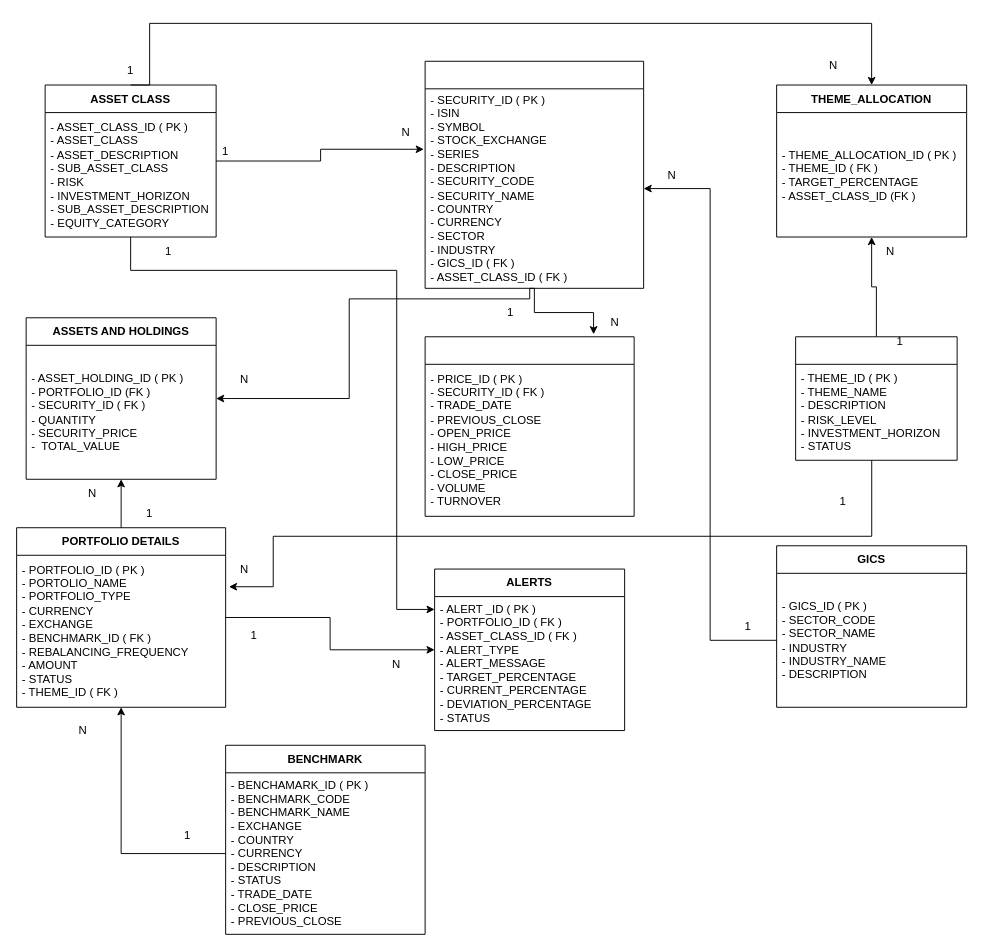
Image size: 983x951. Some labels were removed from this diagram. The shapes that lost their labels are listed below. From the top down, each one's box as (x1, y1, x2, y2) in pixels, then its label:
(424, 60, 644, 288): UNIFIED SECURITY MASTER
(795, 336, 957, 460): INVESTMENT_THEME
(424, 336, 634, 516): MARKET_PRICE
